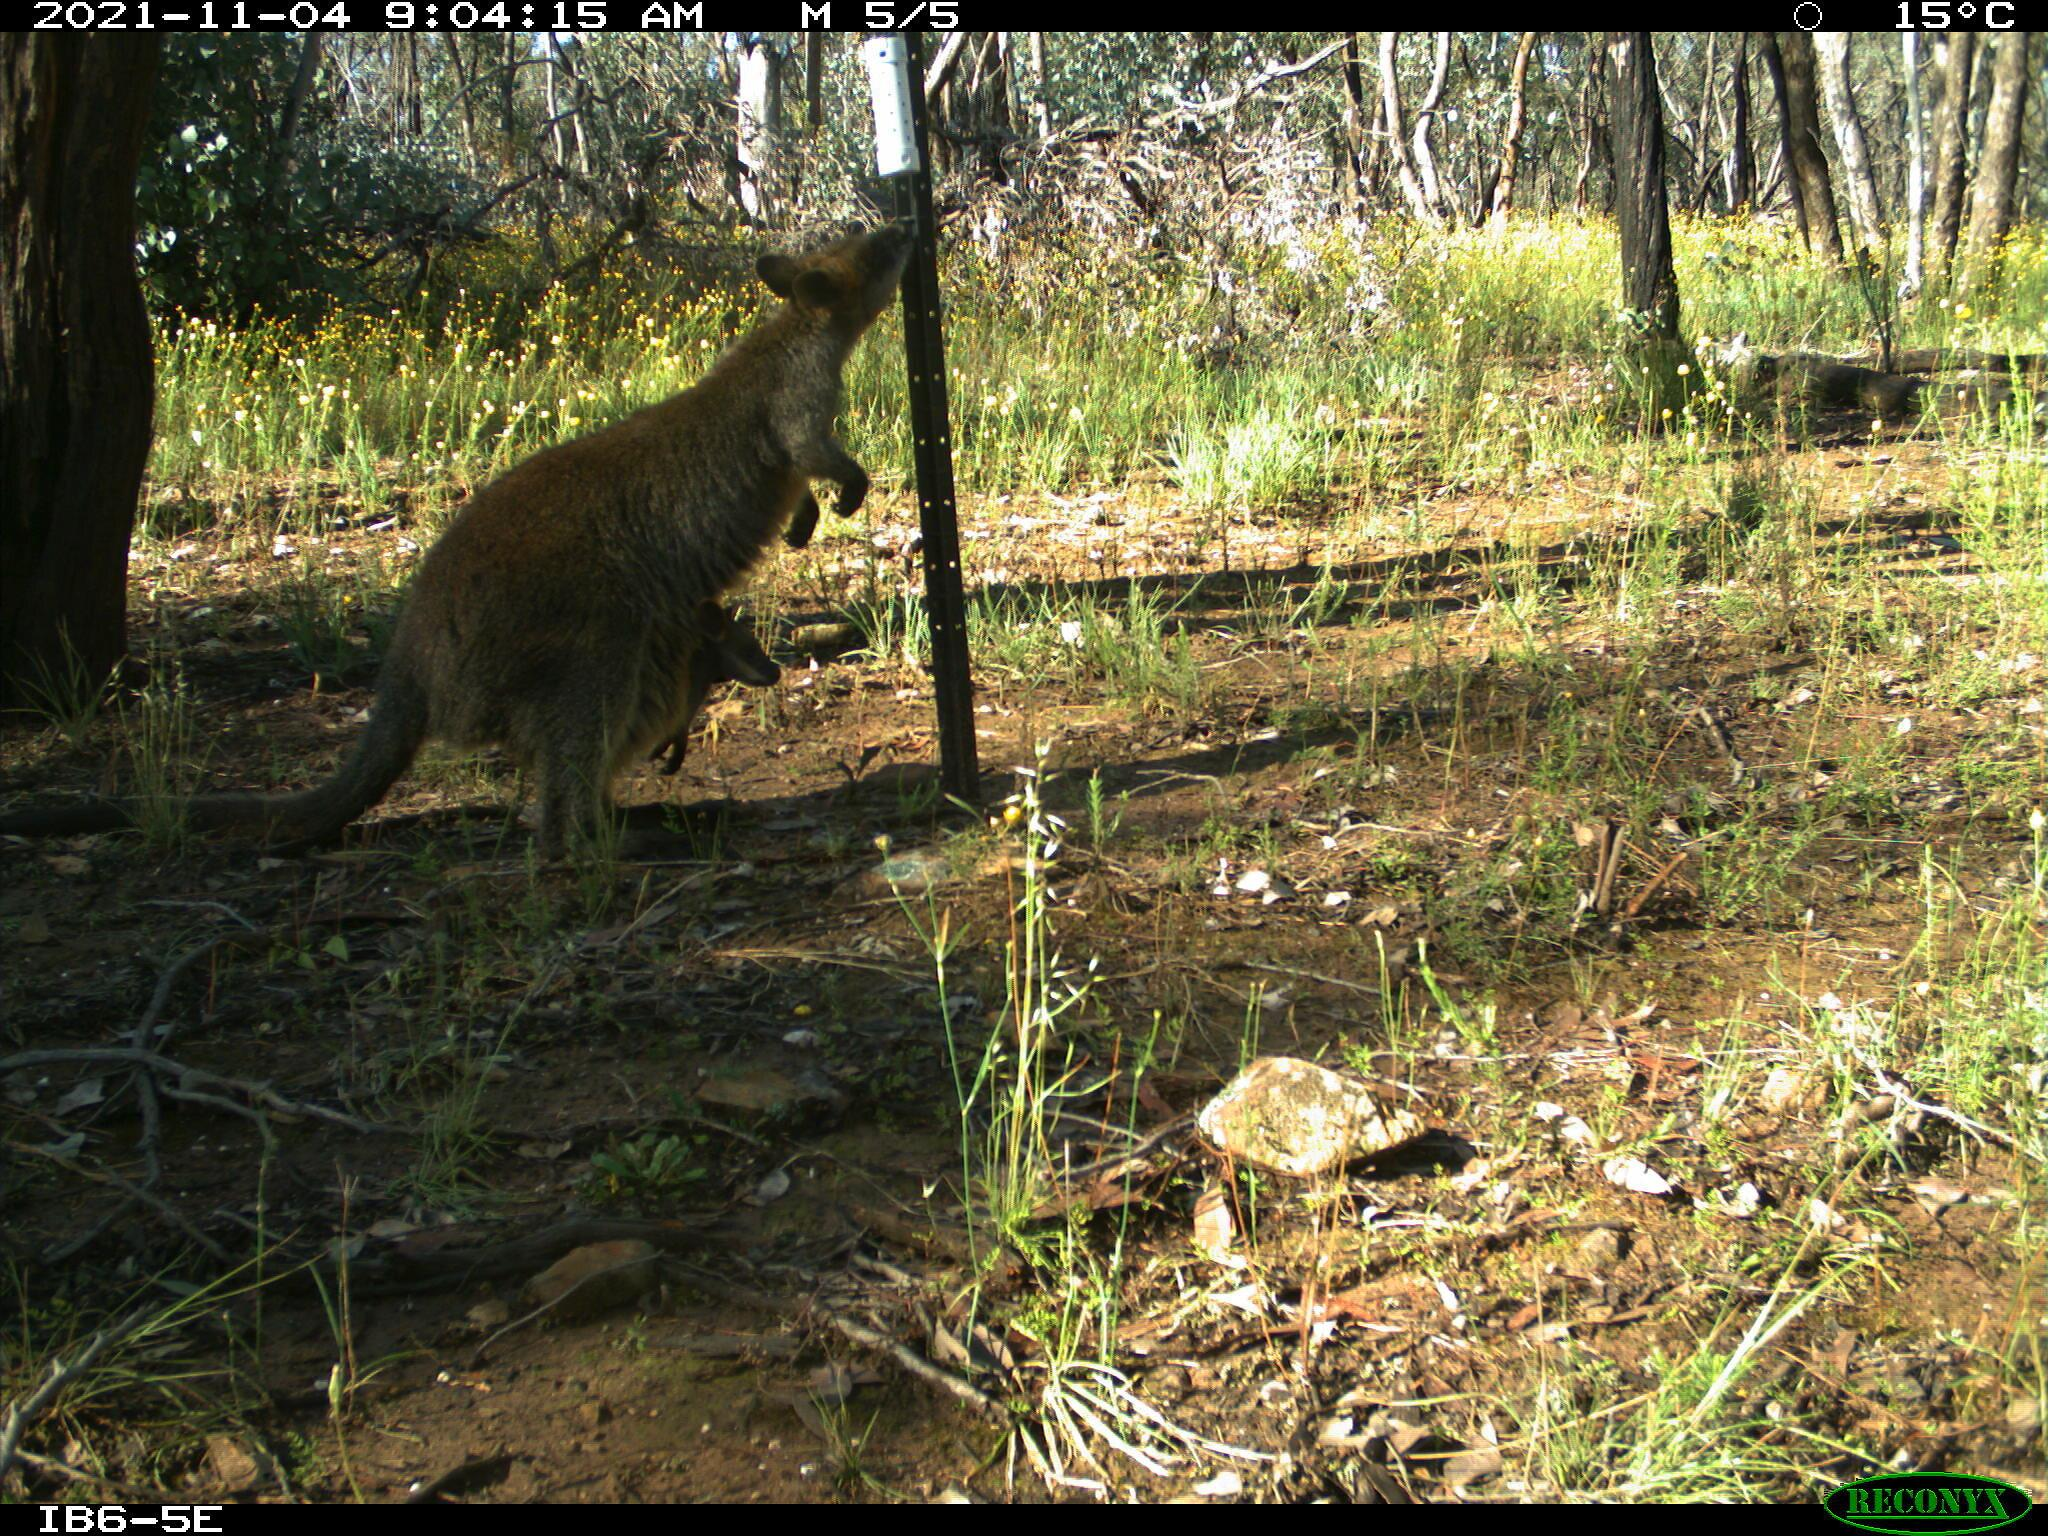Swamp wallaby: (15, 219, 930, 878)
